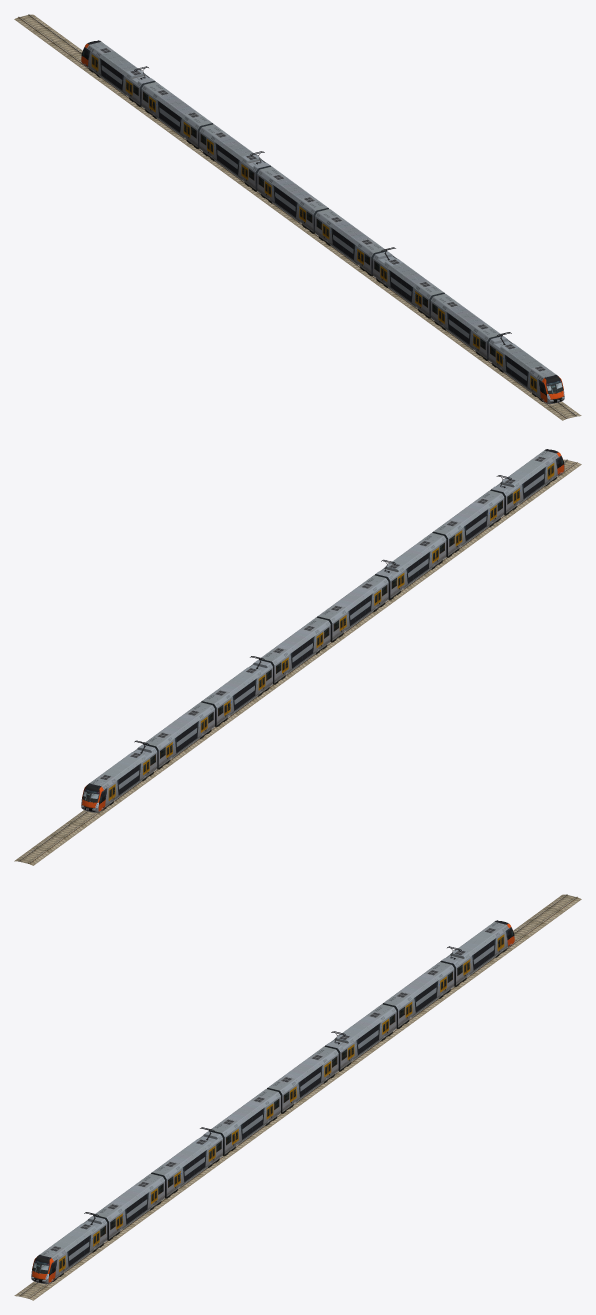
The model's file is sydney_trains_waratah_b_set_uv_wip.glb.
3 renders of one model, top to bottom at view 1: azimuth 30°, elevation 25°; view 2: azimuth 150°, elevation 25°; view 3: azimuth 330°, elevation 25°, orthographic.
Parts seen in each view (by area): view 1: Plane_16, Cube.002_2, Cube.004_12, Cube.007_10, Cube.003_7, Cube.006_9, Cube.008_11, Cube.010_6, Cube.001_8; view 2: Plane_16, Cube.004_12, Cube.002_2, Cube.003_7, Cube.007_10, Cube.010_6, Cube.001_8, Cube.008_11, Cube.006_9; view 3: Plane_16, Cube.002_2, Cube.004_12, Cube.007_10, Cube.003_7, Cube.006_9, Cube.008_11, Cube.010_6, Cube.001_8.
Part boxes in pixels (box(x1,y1,x2,y2)): Plane_16: box(14, 14, 581, 420); Cube.002_2: box(488, 332, 564, 403); Cube.004_12: box(81, 40, 155, 106); Cube.007_10: box(199, 124, 271, 191); Cube.003_7: box(373, 247, 444, 318); Cube.006_9: box(141, 82, 213, 148); Cube.008_11: box(257, 166, 328, 233); Cube.010_6: box(431, 293, 501, 360); Cube.001_8: box(315, 209, 386, 276); Plane_16: box(14, 459, 581, 865); Cube.004_12: box(81, 740, 157, 812); Cube.002_2: box(490, 449, 564, 515); Cube.003_7: box(374, 533, 446, 600); Cube.007_10: box(201, 656, 272, 726); Cube.010_6: box(432, 490, 504, 557); Cube.001_8: box(316, 575, 388, 642); Cube.008_11: box(259, 617, 330, 684); Cube.006_9: box(143, 702, 214, 769); Plane_16: box(14, 894, 581, 1300); Cube.002_2: box(31, 1212, 107, 1283); Cube.004_12: box(440, 920, 514, 986); Cube.007_10: box(324, 1004, 396, 1071); Cube.003_7: box(151, 1127, 222, 1198); Cube.006_9: box(382, 962, 454, 1028); Cube.008_11: box(267, 1046, 338, 1113); Cube.010_6: box(94, 1173, 164, 1240); Cube.001_8: box(209, 1089, 280, 1156).
Size of the model in its own units: 0.095 by 0.1635 by 4.65.
9 materials, 9 textured.
